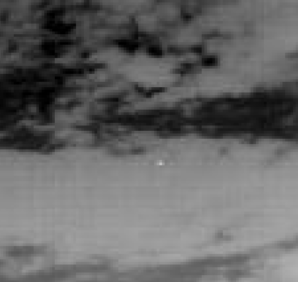Target: (157, 160, 163, 164)
